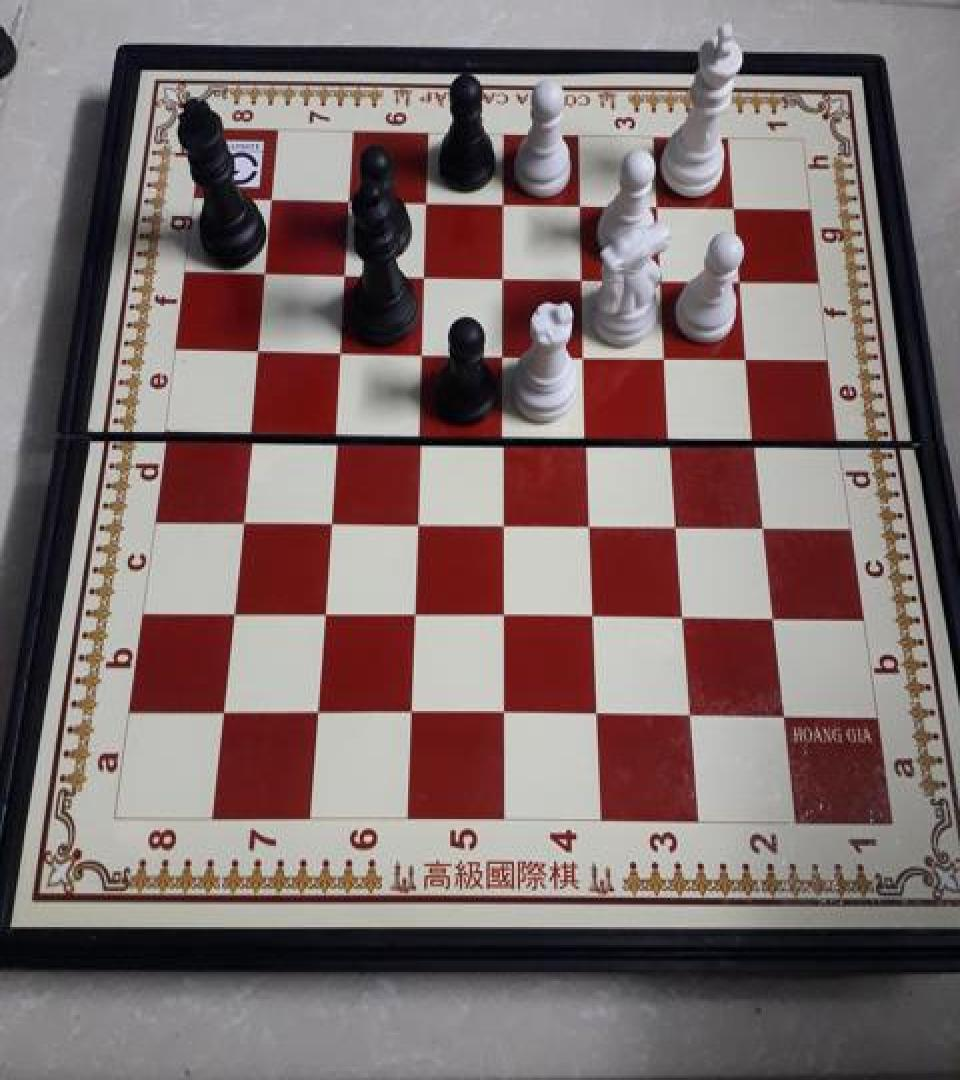xcorner: (397, 696, 429, 733), (491, 697, 523, 734), (584, 697, 616, 734), (677, 698, 709, 735), (769, 698, 801, 735), (208, 695, 240, 731), (303, 695, 335, 731), (218, 594, 250, 630), (309, 595, 341, 631), (400, 596, 432, 632), (490, 598, 522, 634), (580, 598, 612, 634), (670, 598, 702, 634), (759, 600, 791, 636), (226, 500, 258, 536), (314, 502, 346, 538), (402, 502, 434, 538), (490, 503, 522, 539), (577, 504, 609, 540), (664, 505, 696, 541), (750, 506, 782, 542), (234, 412, 266, 448), (319, 413, 351, 449), (404, 414, 436, 450), (489, 416, 521, 452), (573, 418, 605, 454), (658, 418, 690, 454), (741, 420, 773, 456), (241, 330, 273, 366), (324, 331, 356, 367), (406, 332, 438, 368), (489, 334, 521, 370), (570, 335, 602, 371), (652, 336, 684, 372), (733, 338, 765, 374), (248, 252, 280, 288), (329, 253, 361, 289), (408, 256, 440, 292), (488, 256, 520, 292), (567, 258, 599, 294), (647, 259, 679, 295), (725, 261, 757, 297), (255, 179, 287, 215), (333, 181, 365, 217), (410, 182, 442, 218), (488, 184, 520, 220), (641, 187, 673, 223), (718, 188, 750, 224), (565, 186, 597, 221)
